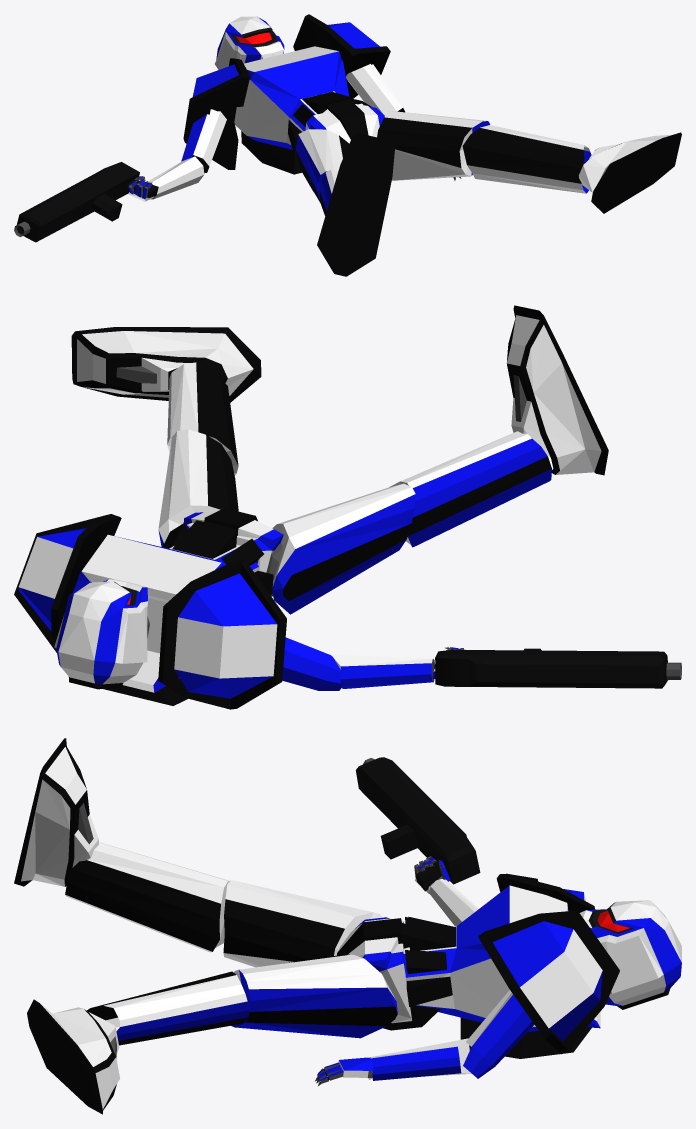
Rendered from robots_000047.obj.
The picture shows the model from 3 angles, top to bottom: view 1: azimuth 30°, elevation 25°; view 2: azimuth 150°, elevation 25°; view 3: azimuth 270°, elevation 25°; orthographic projection. The views are drawn at different scales.
Visible parts, largest first — view 1: Chest_plate_Cube.004, R_Foot_Cube, R_Shin.002_Cube.029, R_Thigh.002_Cube.027, R_Foot.002_Cube.035, Cube_Cube.001, Cube.002_Cube.059, Cube_Cube.021, Head_base_Cube.022, R_Thigh_Cube.005, Pelvis_Cube.006, R_Arm_Cube.002 (+3 smaller); view 2: Cube.002_Cube.059, R_Thigh_Cube.005, Chest_plate_Cube.004, R_Foot.002_Cube.035, R_Foot_Cube, R_Shin_Cube.007, Cube_Cube.001, Head_base_Cube.022, Cube_Cube.021, R_Thigh.002_Cube.027, R_Shin.002_Cube.029, R_Forearm_Cube.008 (+2 smaller); view 3: Chest_plate_Cube.004, Cube_Cube.021, R_Thigh.002_Cube.027, R_Shin_Cube.007, R_Thigh_Cube.005, Cube_Cube.001, R_Foot_Cube, Head_base_Cube.022, R_Shin.002_Cube.029, R_Foot.002_Cube.035, Pelvis_Cube.006, L_Arm_Cube.014 (+4 smaller).
Boxes of the visible parts, bbox=[...] form: Chest_plate_Cube.004: bbox=[234, 46, 370, 174]; R_Foot_Cube: bbox=[317, 133, 395, 276]; R_Shin.002_Cube.029: bbox=[462, 125, 591, 193]; R_Thigh.002_Cube.027: bbox=[377, 111, 490, 180]; R_Foot.002_Cube.035: bbox=[578, 132, 681, 213]; Cube_Cube.001: bbox=[14, 162, 158, 242]; Cube.002_Cube.059: bbox=[183, 58, 249, 169]; Cube_Cube.021: bbox=[293, 14, 390, 98]; Head_base_Cube.022: bbox=[215, 16, 284, 69]; R_Thigh_Cube.005: bbox=[295, 129, 348, 201]; Pelvis_Cube.006: bbox=[305, 99, 384, 143]; R_Arm_Cube.002: bbox=[181, 109, 226, 173]; Cube.002_Cube.059: bbox=[158, 560, 286, 709]; R_Thigh_Cube.005: bbox=[272, 483, 415, 614]; Chest_plate_Cube.004: bbox=[73, 520, 273, 705]; R_Foot.002_Cube.035: bbox=[71, 327, 261, 402]; R_Foot_Cube: bbox=[506, 305, 608, 475]; R_Shin_Cube.007: bbox=[389, 431, 551, 547]; Cube_Cube.001: bbox=[435, 648, 681, 688]; Head_base_Cube.022: bbox=[54, 579, 147, 689]; Cube_Cube.021: bbox=[14, 514, 121, 652]; R_Thigh.002_Cube.027: bbox=[158, 429, 238, 546]; R_Shin.002_Cube.029: bbox=[167, 362, 238, 475]; R_Forearm_Cube.008: bbox=[331, 654, 434, 688]; Chest_plate_Cube.004: bbox=[403, 885, 600, 1058]; Cube_Cube.021: bbox=[478, 910, 619, 1054]; R_Thigh.002_Cube.027: bbox=[231, 954, 397, 1038]; R_Shin_Cube.007: bbox=[65, 842, 229, 952]; R_Thigh_Cube.005: bbox=[223, 880, 381, 967]; Cube_Cube.001: bbox=[355, 757, 480, 891]; R_Foot_Cube: bbox=[14, 738, 98, 886]; Head_base_Cube.022: bbox=[579, 900, 681, 1009]; R_Shin.002_Cube.029: bbox=[87, 971, 249, 1045]; R_Foot.002_Cube.035: bbox=[27, 999, 120, 1114]; Pelvis_Cube.006: bbox=[337, 917, 440, 1030]; L_Arm_Cube.014: bbox=[463, 990, 534, 1078].
Bounding box in the file's own units: 3.81 × 1.16 × 3.
